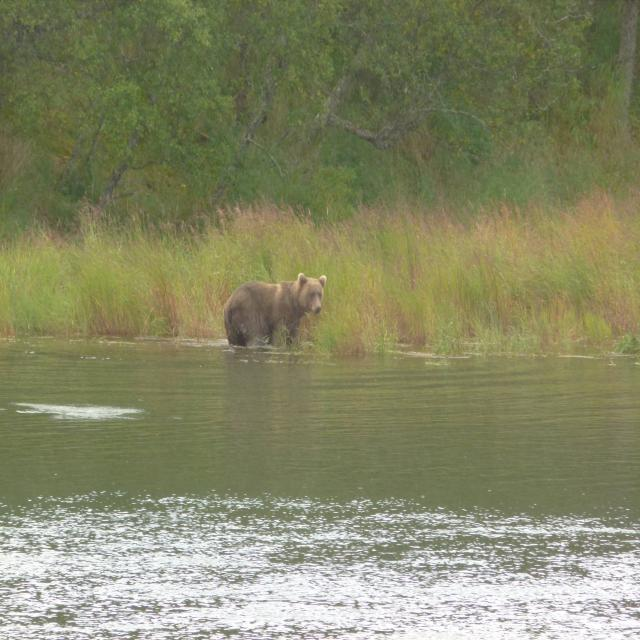bear face: (225, 272, 328, 346)
